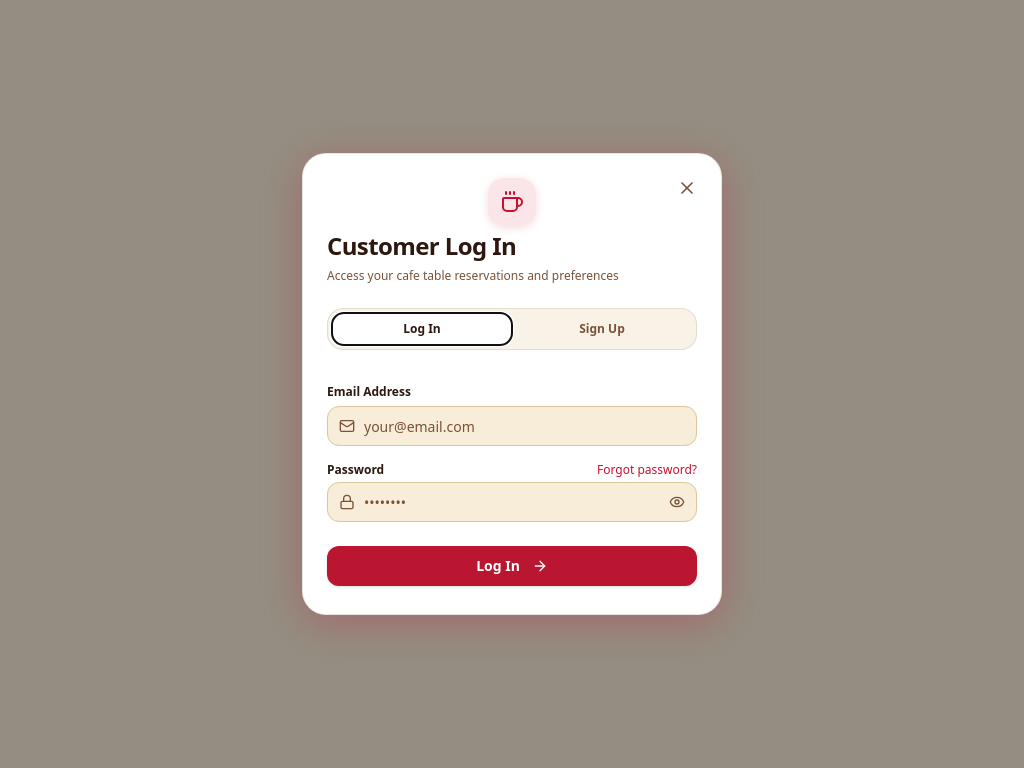
Test: CustomerAuthModal › resetting a forgotten password › resets inside the modal rather than navigating away
Click the button "Forgot password?". click: (647, 470)
box: [597,462,697,478]
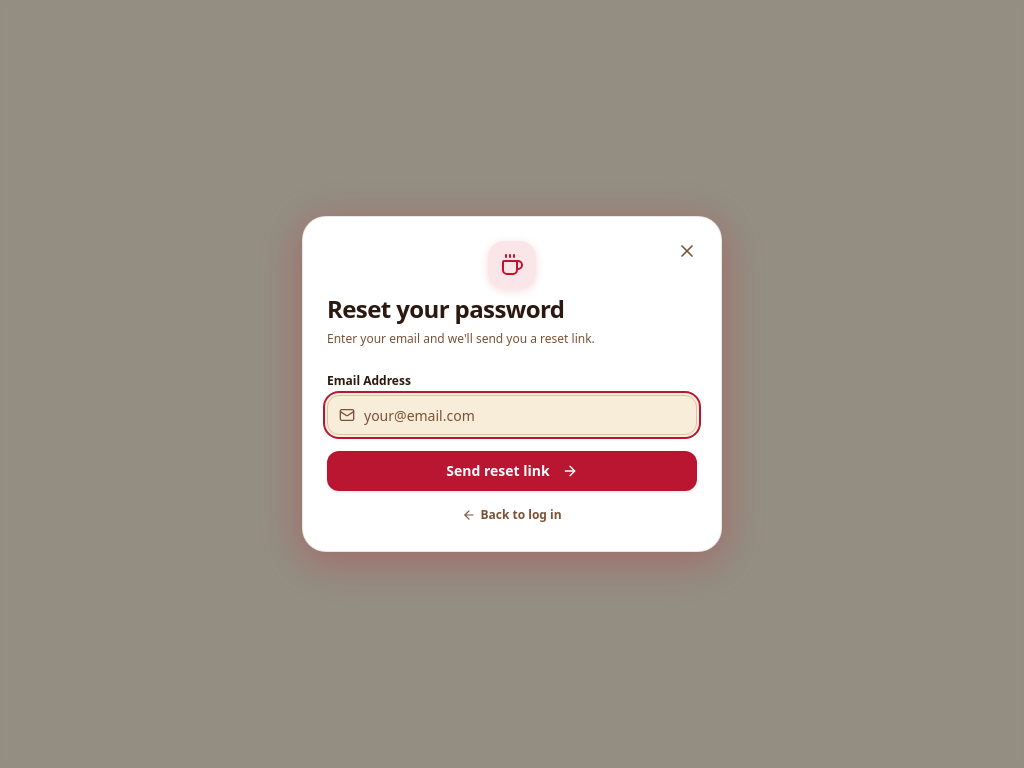
Check: the heading "Reset your password" is shown, box [327,292,564,325]
Check: the button "Forgot password" is gone
